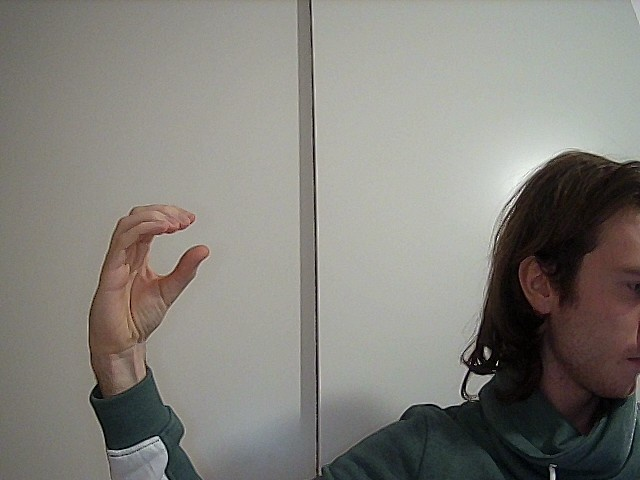c: (74, 194, 226, 355)
